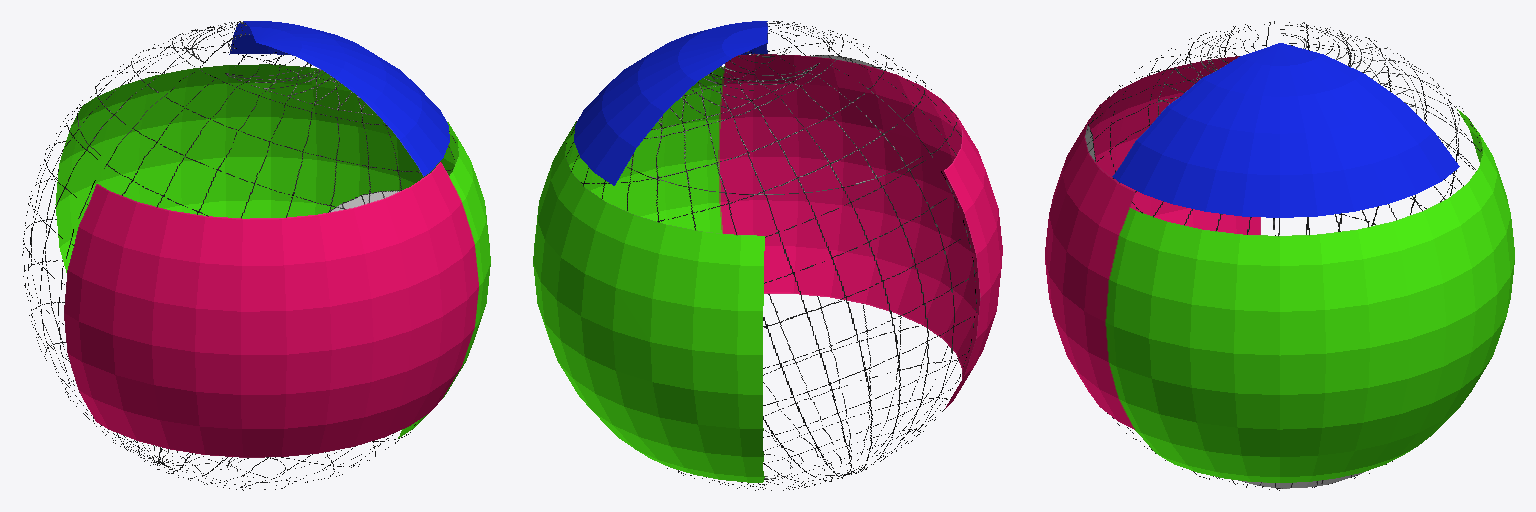
3 renders of one model, left to right at view 1: azimuth 30°, elevation 25°; view 2: azimuth 150°, elevation 25°; view 3: azimuth 270°, elevation 25°, orthographic.
Parts seen in each view (by area): view 1: 球体_球体.001; view 2: 球体_球体.001; view 3: 球体_球体.001.
Boxes of the visible parts, <box> form: 球体_球体.001: <box>22,21,490,490</box>; 球体_球体.001: <box>533,21,1002,490</box>; 球体_球体.001: <box>1045,21,1514,490</box>.
Size of the model in its own units: 2 by 2 by 2.
1 materials, 1 textured.